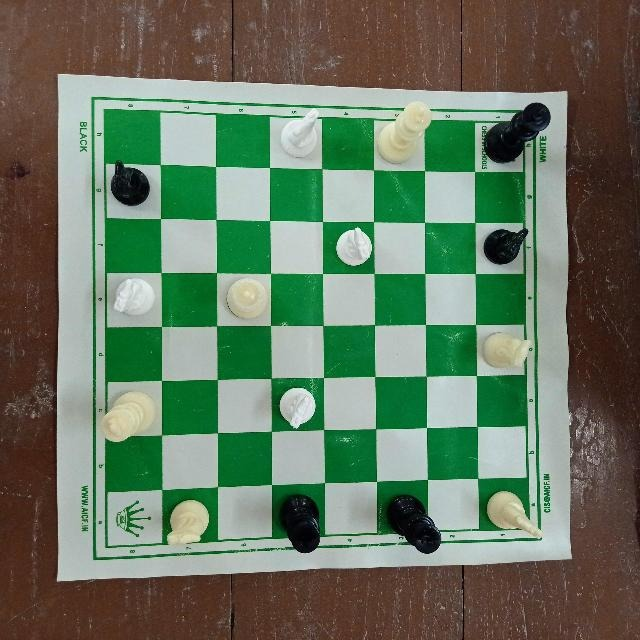black-king: (478, 100, 553, 169), (384, 488, 445, 560), (279, 493, 325, 558)
black-knight: (105, 156, 155, 213), (480, 221, 530, 268)
white-king: (376, 98, 432, 166), (98, 384, 158, 444)
white-knight: (481, 486, 549, 542), (274, 108, 325, 164), (162, 494, 211, 550), (474, 327, 532, 371), (108, 278, 158, 324), (274, 385, 323, 431), (331, 223, 376, 271)
white-queen: (225, 274, 271, 325)
